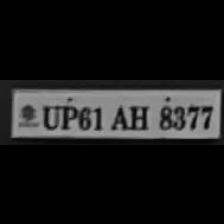1: (90, 98, 104, 128)
3: (169, 96, 186, 130)
6: (74, 101, 96, 128)
7: (197, 101, 217, 129), (186, 101, 202, 129)
8: (148, 97, 170, 129)
A: (107, 100, 127, 130)
H: (125, 100, 152, 128)
P: (59, 101, 77, 129)
U: (38, 101, 62, 129)
